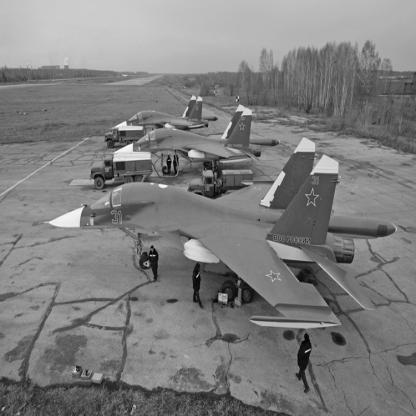Su34: (45, 137, 398, 330), (108, 105, 282, 176), (108, 95, 220, 137)
